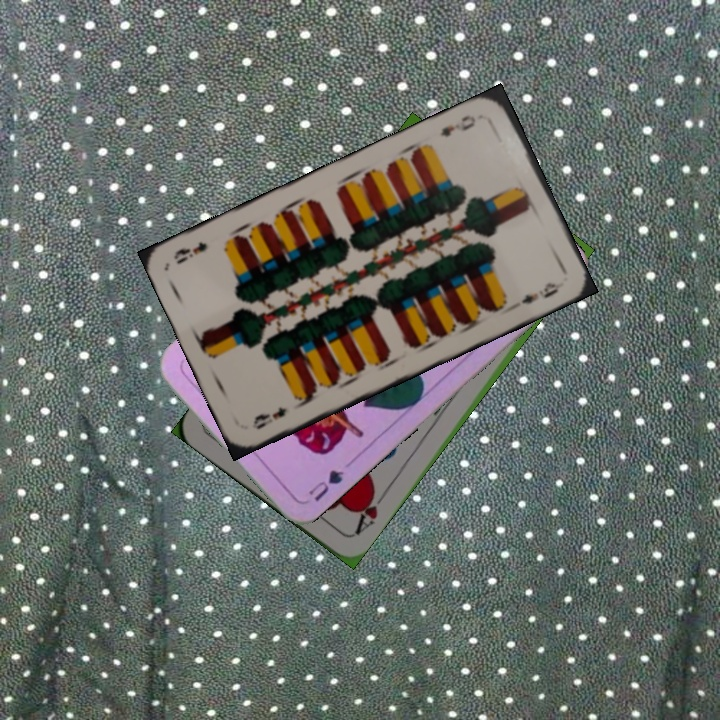E9: (436, 110, 479, 140), (248, 402, 289, 432)
GU: (304, 465, 346, 505)
HA: (350, 484, 390, 538)
